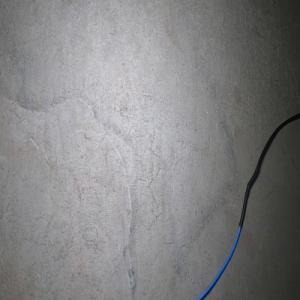Wire: (194, 112, 300, 300)
